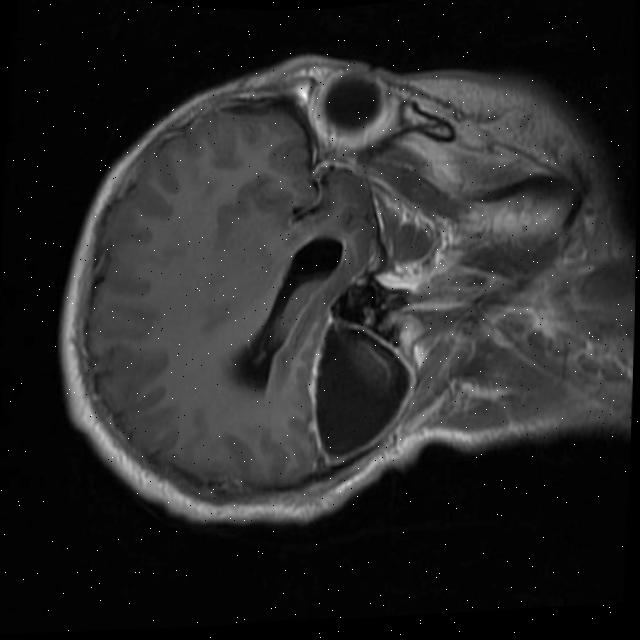Glioma: (306, 312, 418, 469)
